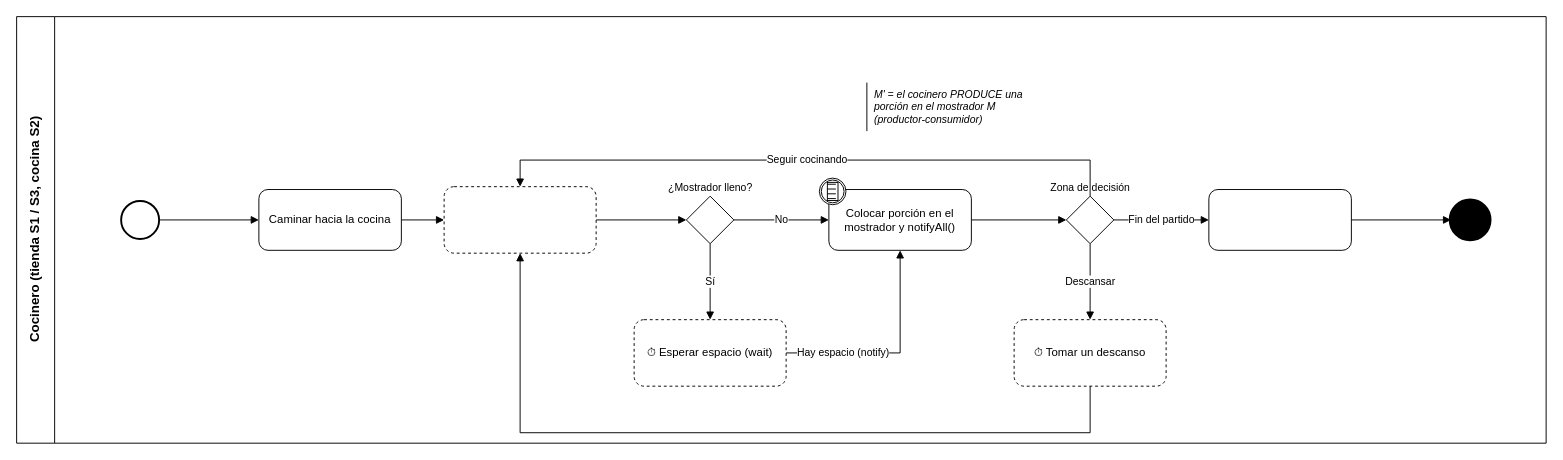
Image size: 1563x460. Some labels were removed from this diagram. The centre of each missing label's shape, as x and y in pixels:
Caminar para salirse: the point at 1279,219
M': the point at 832,191
⏱ Preparar porción: the point at 519,219
